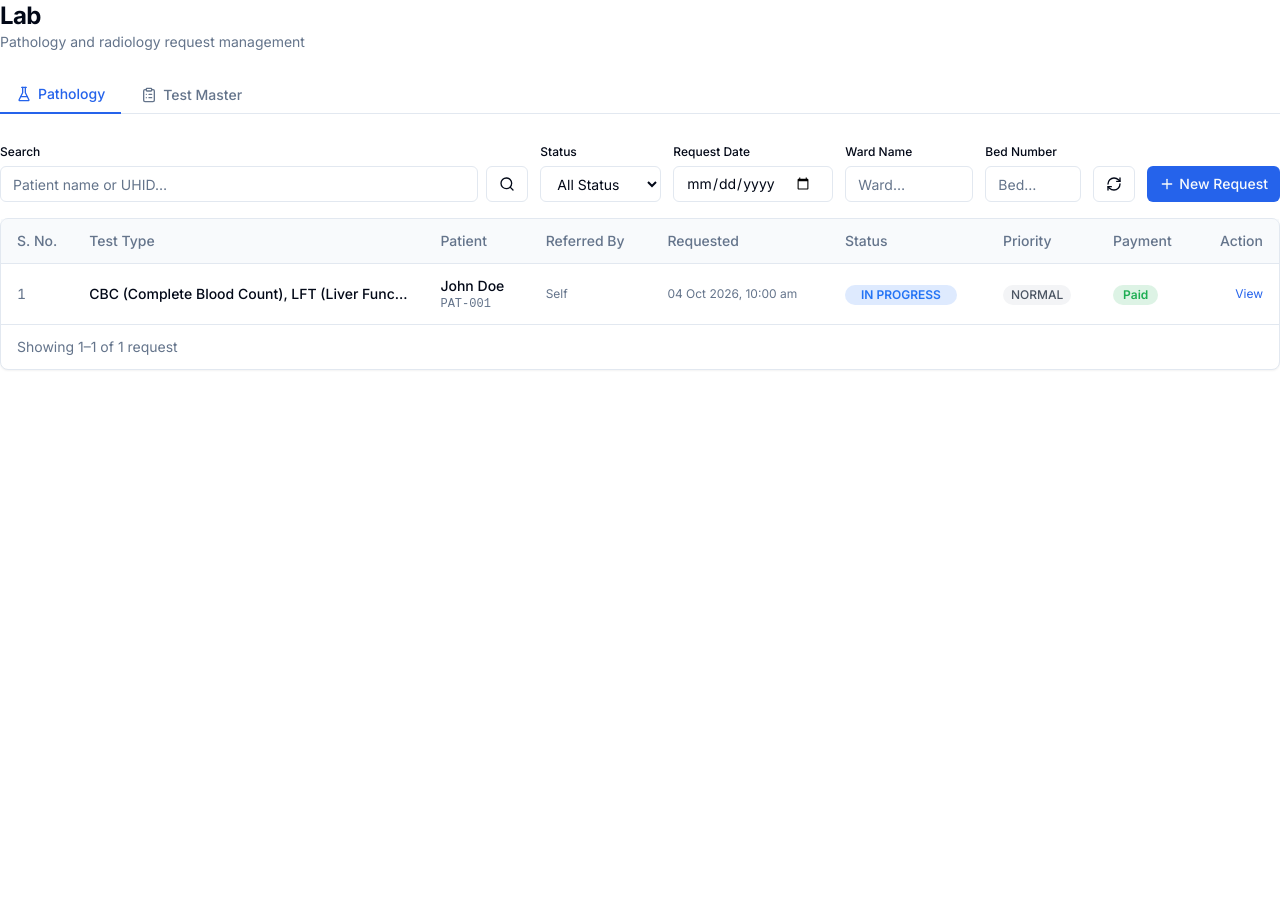
Test: Requested tests are clickable › every selected test is a button with its exact name and a report status
Click the button "View": x=1249, y=294 [1235,286,1263,302]
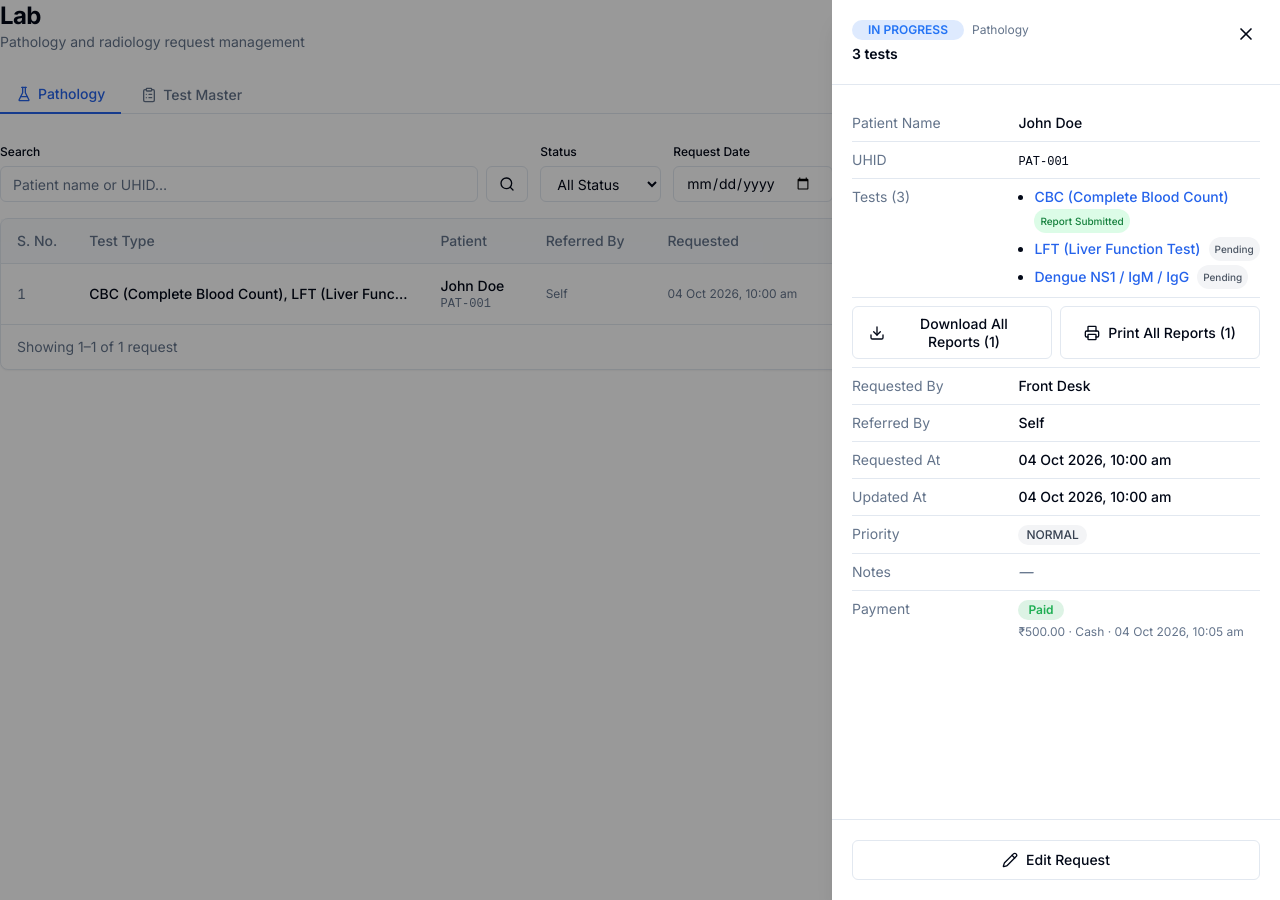
Now the button "CBC (Complete Blood Count)" is shown, box [1034,187,1229,207]
Now the button "LFT (Liver Function Test)" is shown, box [1034,239,1200,259]
Now the button "Dengue NS1 / IgM / IgG" is shown, box [1034,267,1189,287]
